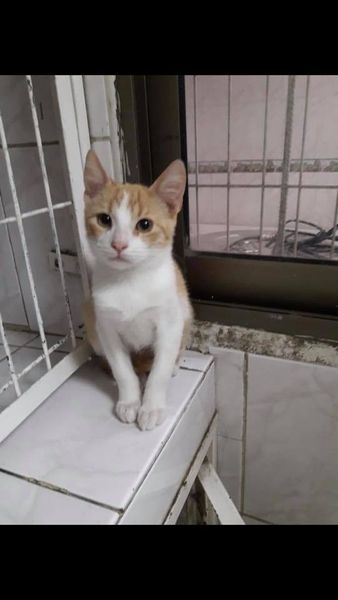cat: (57, 148, 200, 436)
